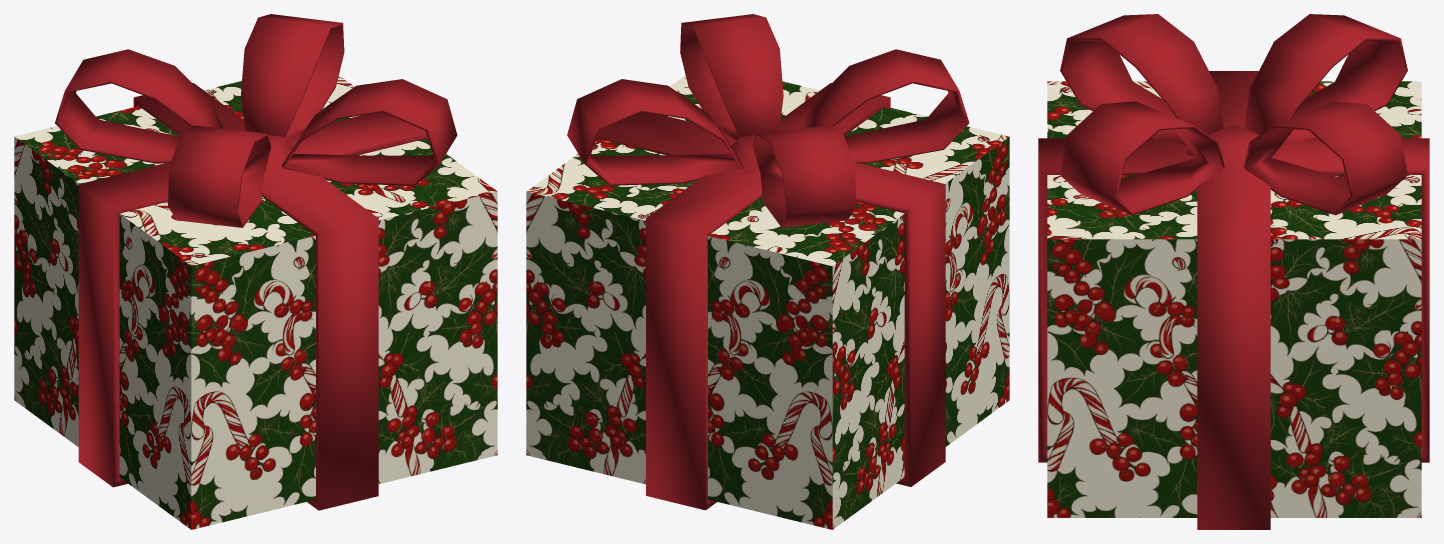
File: giftBigWhite2.glb
3 views of the same model, side by side, from view 1: azimuth 30°, elevation 25°; view 2: azimuth 150°, elevation 25°; view 3: azimuth 270°, elevation 25° (orthographic). The views are drawn at different scales.
Visible parts, largest first — view 1: GiftBigWhite2; view 2: GiftBigWhite2; view 3: GiftBigWhite2.
Boxes of the visible parts, x1,y1,x2,y2 form: GiftBigWhite2: [14, 14, 497, 529]; GiftBigWhite2: [526, 14, 1009, 529]; GiftBigWhite2: [1038, 14, 1429, 529].
Size of what is drawn, in the model's own units: 0.9149 by 0.9717 by 0.9149.
2 materials, 2 textured.
